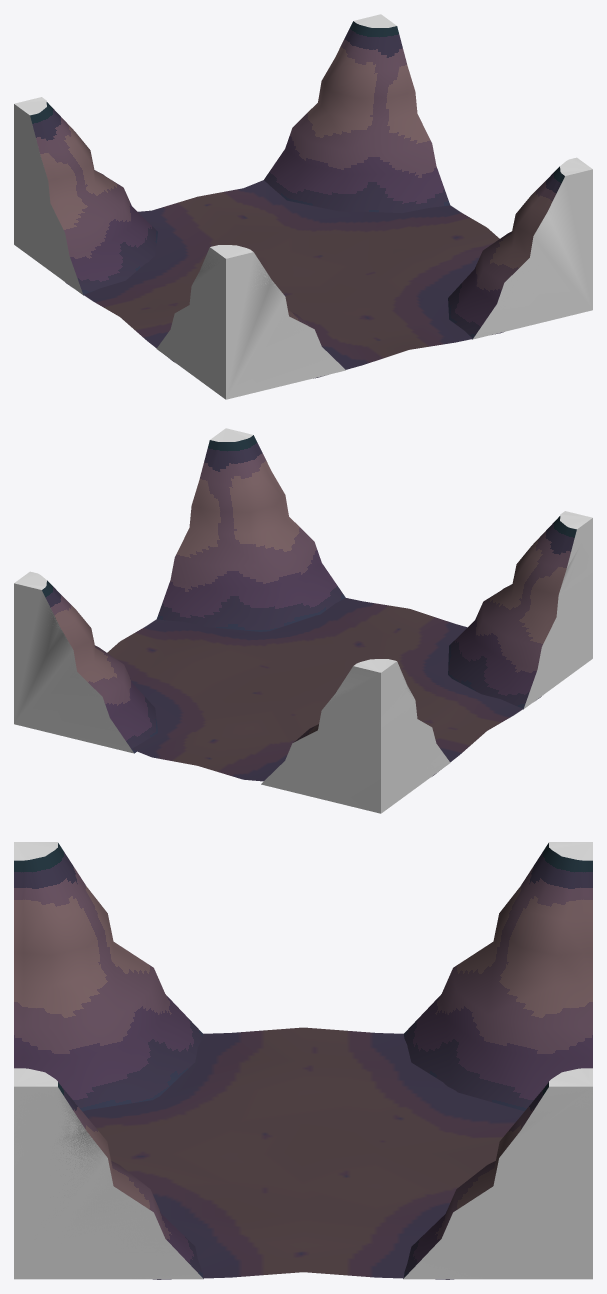
File: CaveFourway.fbx
3 renders of one model, top to bottom at view 1: azimuth 30°, elevation 25°; view 2: azimuth 150°, elevation 25°; view 3: azimuth 270°, elevation 25°, orthographic. The views are drawn at different scales.
Parts seen in each view (by area): view 1: WallStraight.001, FloorT; view 2: WallStraight.001, FloorT; view 3: WallStraight.001, FloorT.
Boxes of the visible parts, x1,y1,x2,y2 form: WallStraight.001: [14, 14, 592, 399]; FloorT: [65, 180, 503, 378]; WallStraight.001: [14, 428, 592, 813]; FloorT: [107, 598, 541, 781]; WallStraight.001: [14, 842, 592, 1279]; FloorT: [82, 1027, 524, 1279].
Bounding box in the file's own units: 200 × 74.96 × 200.
